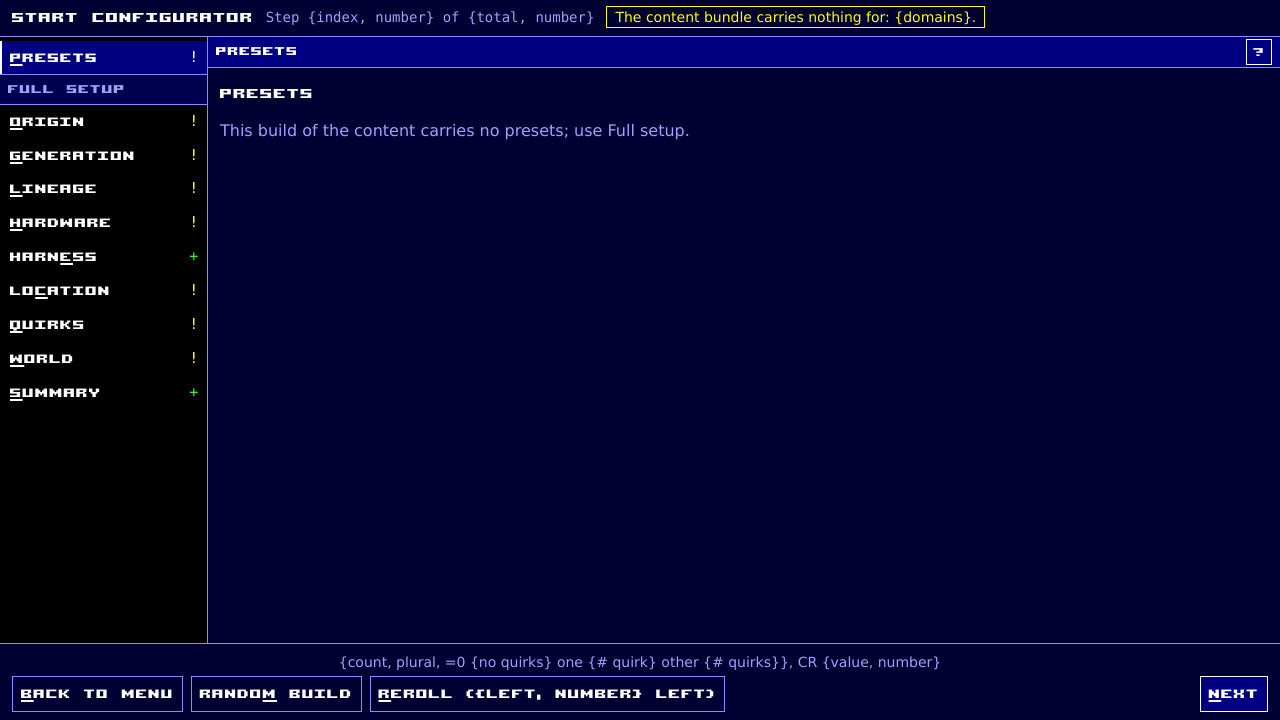
Test: the explanation window (K6) › comes back from the question mark in the step header
The width and height of the screenshot is (1280, 720).
Click the button named "what does this step decide". click: [1259, 52]
box: 1246,39 -> 1272,65
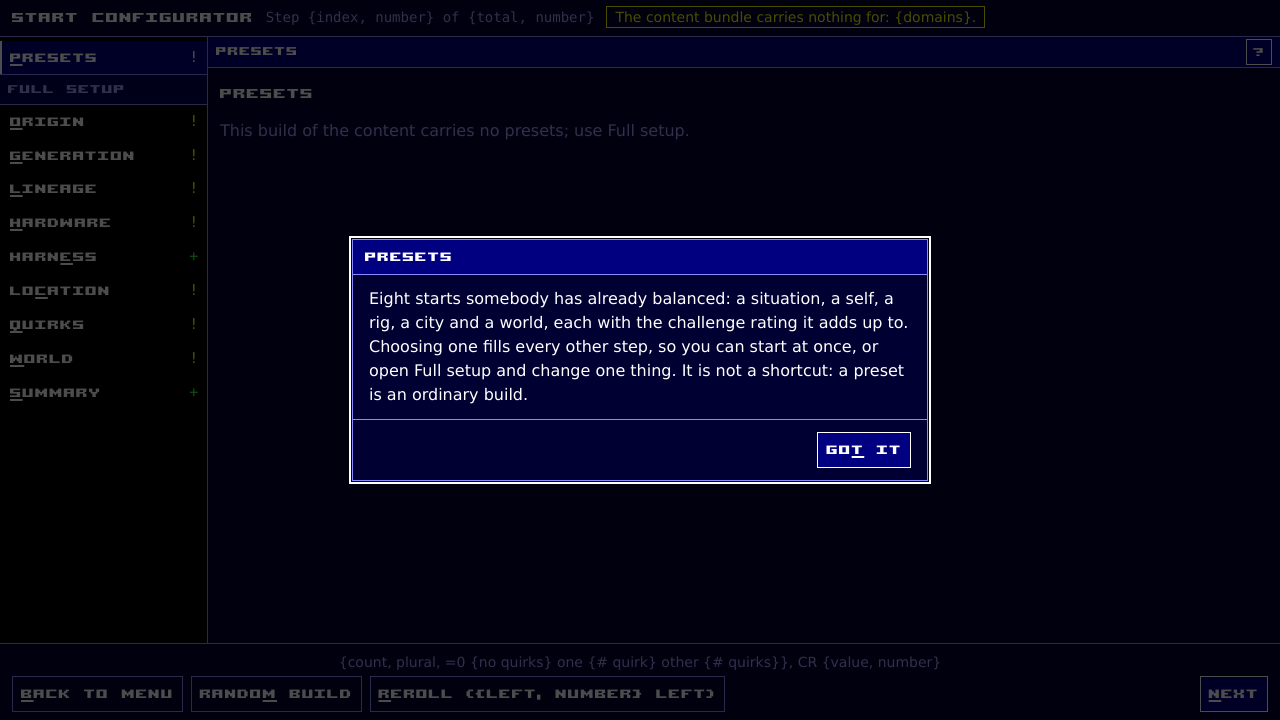
Click the button "Got it". click: [864, 450]
box: 818,432 -> 911,468
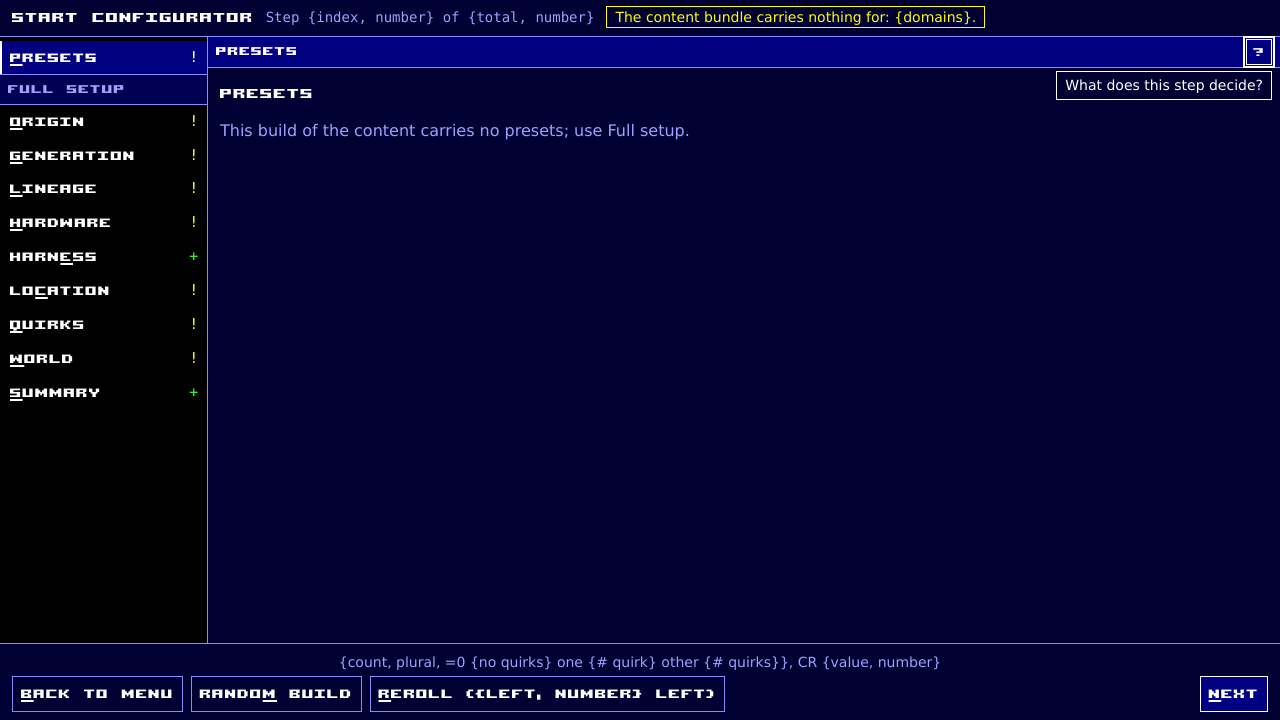
expect the text with test id "config-intro" is gone: met
